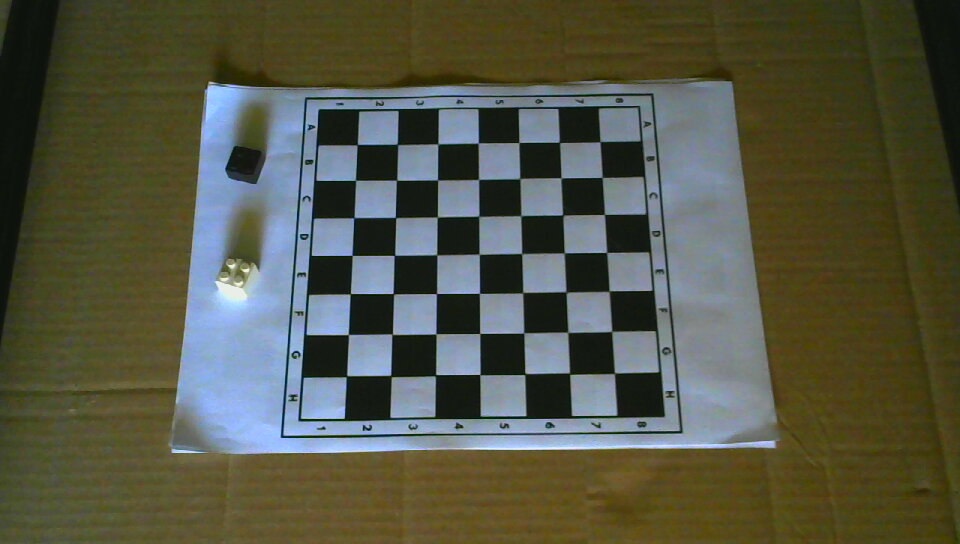bp: (225, 145, 266, 185)
wp: (214, 256, 259, 298)
